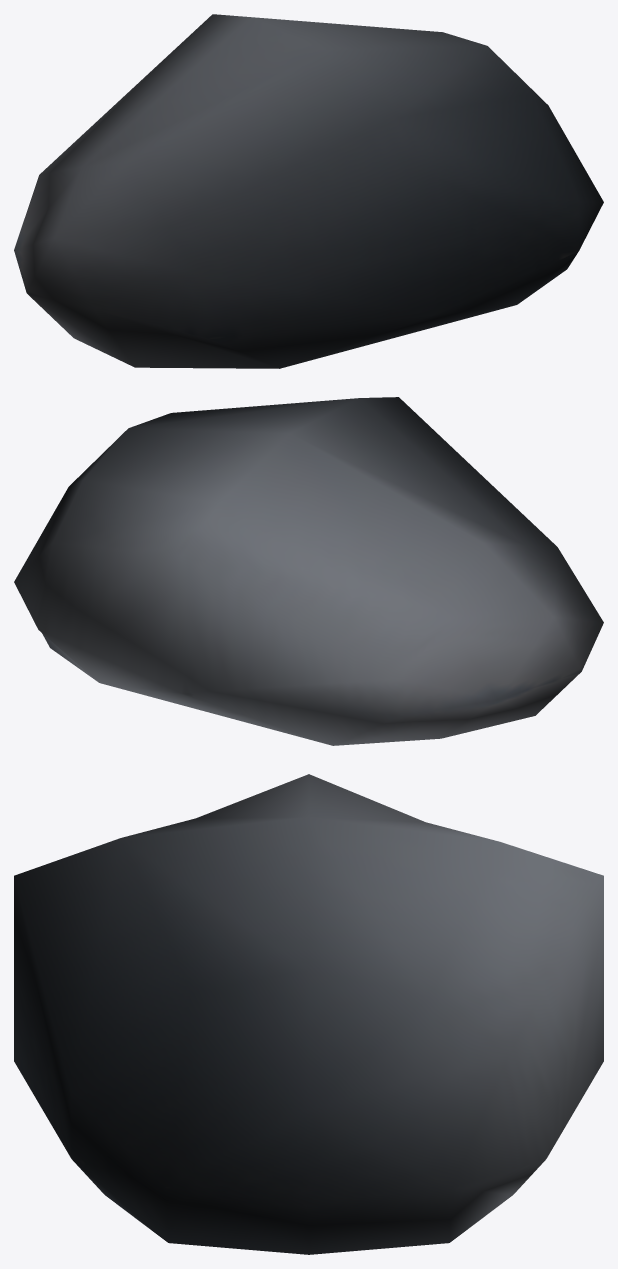
Rendered from rock_3.fbx.
3 renders of one model, top to bottom at view 1: azimuth 30°, elevation 25°; view 2: azimuth 150°, elevation 25°; view 3: azimuth 270°, elevation 25°, orthographic. The views are drawn at different scales.
Visible parts, largest first — view 1: rock_3; view 2: rock_3; view 3: rock_3.
Part boxes in pixels (x1,y1,x2,y2): rock_3: [14, 14, 603, 368]; rock_3: [14, 397, 603, 745]; rock_3: [14, 774, 603, 1254].
Size of the model in its own units: 17.53 by 6.95 by 12.32.
